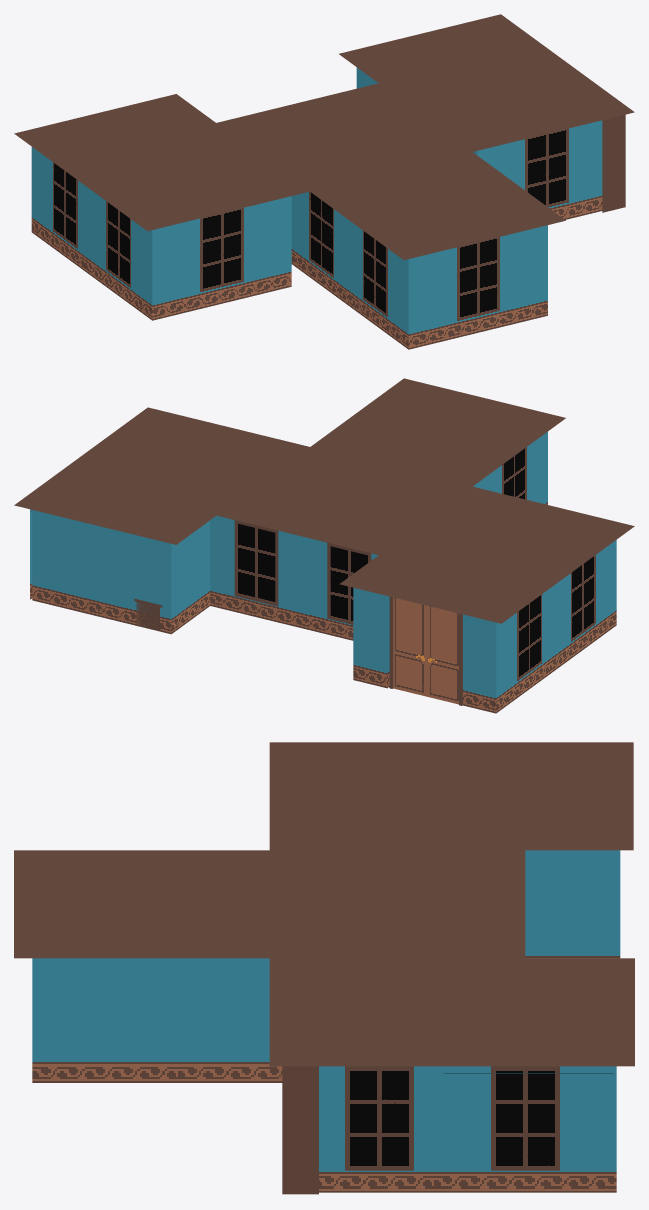
File: mansion.glb
The picture shows the model from 3 angles, top to bottom: view 1: azimuth 30°, elevation 25°; view 2: azimuth 150°, elevation 25°; view 3: azimuth 270°, elevation 25°; orthographic projection. The views are drawn at different scales.
Parts seen in each view (by area): view 1: entrance, office, bedroom, hallway; view 2: entrance, bedroom, hallway, office; view 3: bedroom, office, entrance, hallway.
Boxes of the visible parts, x1,y1,x2,y2 form: entrance: (14,94,309,320); office: (283,132,565,349); bedroom: (339,14,634,219); hallway: (193,77,468,177); entrance: (339,486,634,713); bedroom: (14,407,309,634); hallway: (194,462,467,640); office: (274,378,565,505); bedroom: (269,958,634,1194); office: (14,850,379,1082); entrance: (269,742,633,958); hallway: (342,835,525,973).
Size of the model in its own units: 21 by 4.2 by 17.
Materials: 1 (1 with a texture image).
